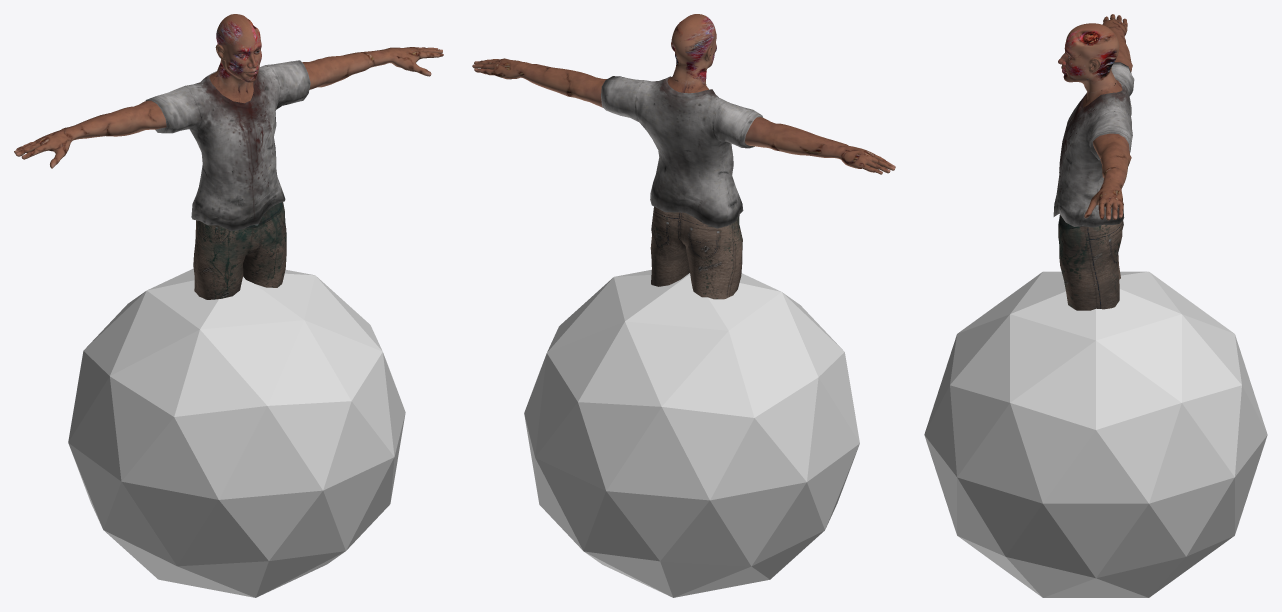
The model's file is enemy1.fbx.
3 renders of one model, left to right at view 1: azimuth 30°, elevation 25°; view 2: azimuth 150°, elevation 25°; view 3: azimuth 270°, elevation 25°, orthographic.
Parts seen in each view (by area): view 1: Icosphere, Tops_0, Body_0, Bottoms_0; view 2: Icosphere, Tops_0, Body_0, Bottoms_0; view 3: Icosphere, Tops_0, Body_0, Bottoms_0.
Part boxes in pixels (x1,y1,x2,y2): Icosphere: [68, 268, 405, 597]; Tops_0: [145, 60, 310, 230]; Body_0: [14, 14, 443, 168]; Bottoms_0: [193, 202, 286, 299]; Icosphere: [524, 270, 859, 597]; Tops_0: [601, 76, 763, 228]; Body_0: [472, 14, 895, 174]; Bottoms_0: [650, 206, 742, 299]; Icosphere: [924, 271, 1267, 597]; Tops_0: [1053, 62, 1134, 227]; Body_0: [1058, 14, 1132, 220]; Bottoms_0: [1058, 215, 1123, 310].
Size of the model in its own units: 284 by 363 by 200.
